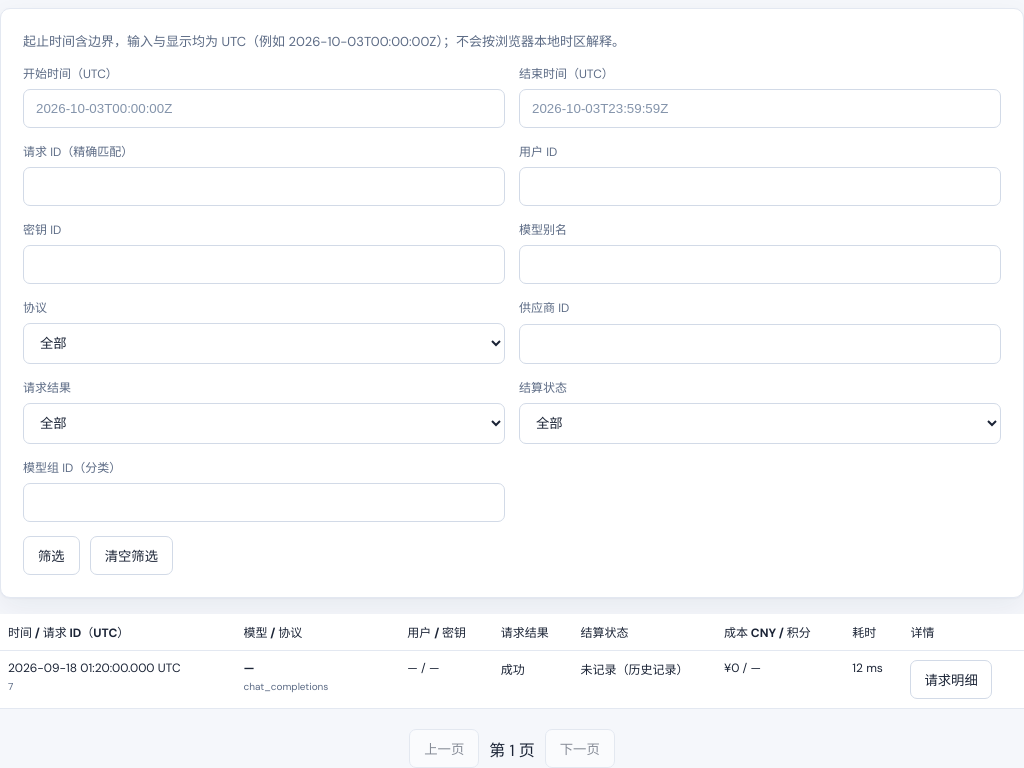
Test: settlementHint › shows the unpriced hint on the upstream attempt row of a request
The width and height of the screenshot is (1024, 768).
(page scrolled)
Click the button "请求明细": point(951, 680) 910,660 -> 992,699
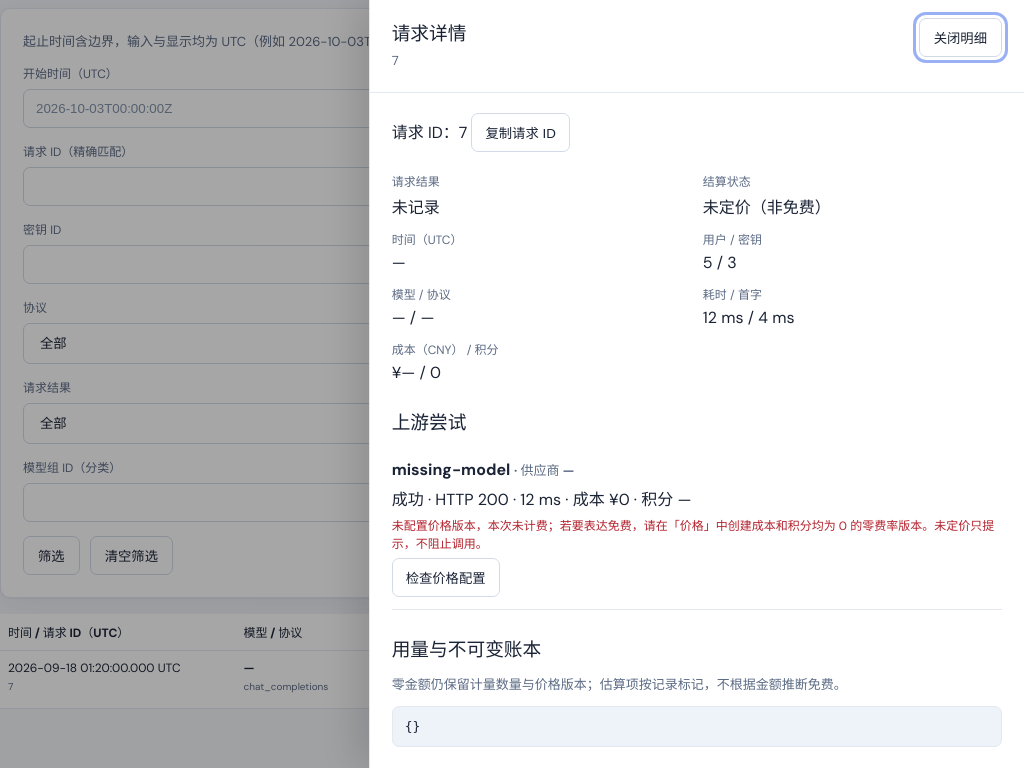
Expected: the element with class "route-row" shows "missing-model", 392,459 -> 514,480
Expected: the element with class "route-row" shows "未配置价格版本", 392,518 -> 994,552
Expected: the element with class "route-row" shows "价格", 392,447 -> 1002,610
